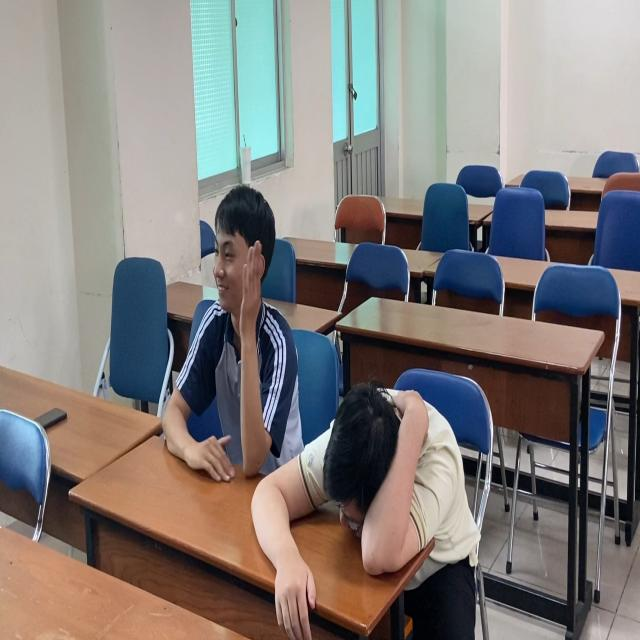sleep: (250, 381, 487, 586)
